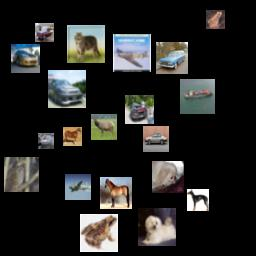airplane: (113, 34, 151, 72), (65, 174, 91, 200)
automobile: (48, 70, 86, 108), (156, 42, 188, 74), (11, 44, 40, 73), (125, 95, 154, 124), (143, 126, 169, 152), (35, 23, 54, 42)
bird: (4, 157, 39, 192)
cat: (67, 25, 105, 63)
deer: (91, 114, 117, 140)
dog: (138, 208, 176, 246), (152, 161, 184, 193), (187, 189, 209, 211)
frog: (80, 214, 118, 252), (206, 10, 225, 29)
ship: (180, 79, 215, 114), (38, 133, 54, 149)
